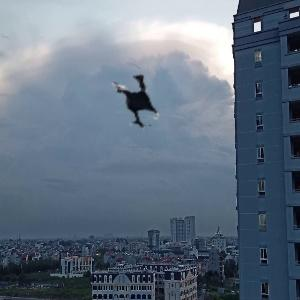drone: (93, 60, 178, 145)
